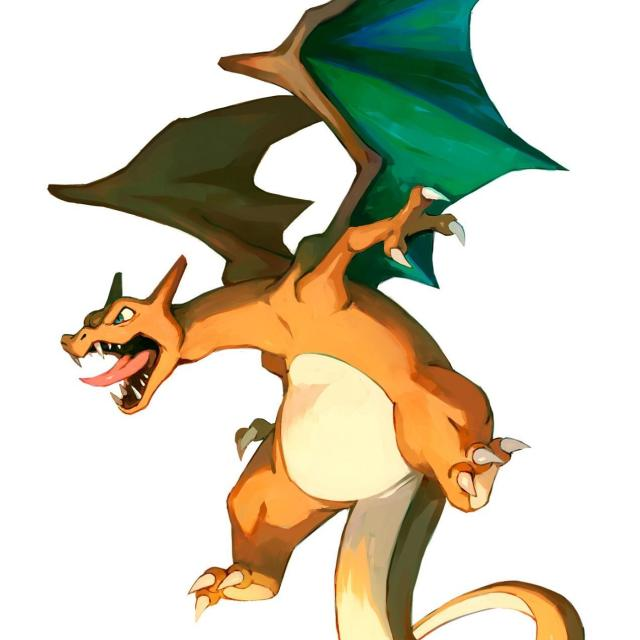Charizard: (60, 186, 497, 584)
